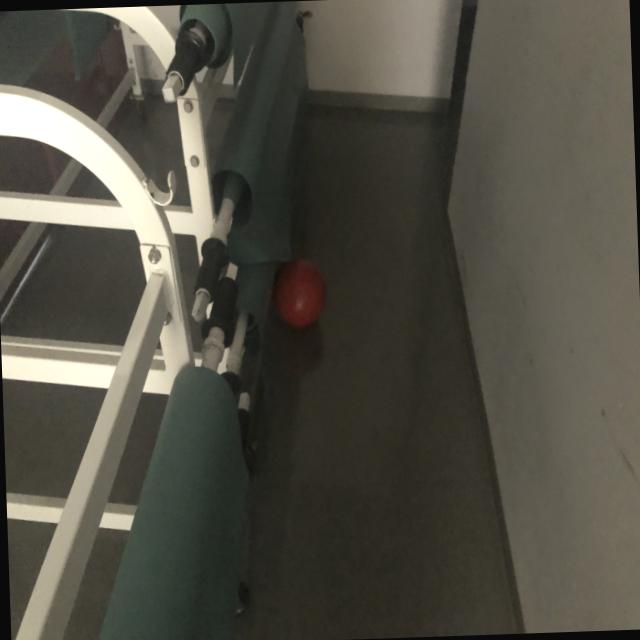red_ball: (271, 255, 322, 328)
